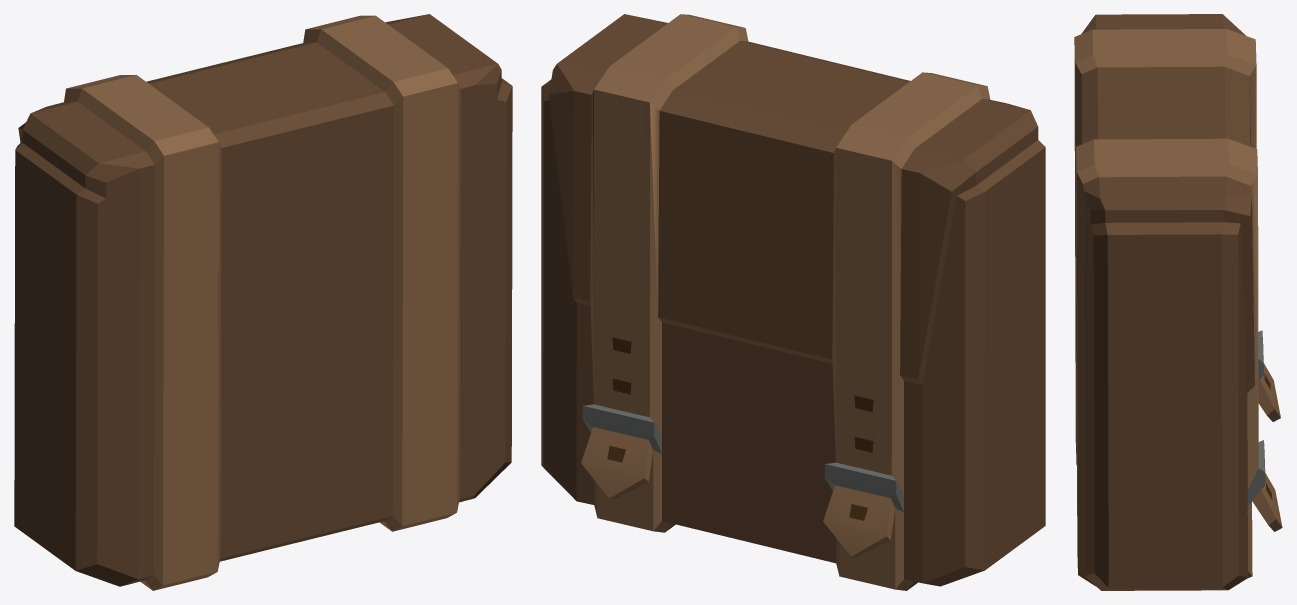
File: SM_Item_Bag_Attachment_02.glb
3 renders of one model, left to right at view 1: azimuth 30°, elevation 25°; view 2: azimuth 150°, elevation 25°; view 3: azimuth 270°, elevation 25°, orthographic. The views are drawn at different scales.
Parts seen in each view (by area): view 1: SM_Item_Bag_Attachment_02; view 2: SM_Item_Bag_Attachment_02; view 3: SM_Item_Bag_Attachment_02.
Part boxes in pixels (<box>): SM_Item_Bag_Attachment_02: <box>14,14,512,590</box>; SM_Item_Bag_Attachment_02: <box>541,14,1045,590</box>; SM_Item_Bag_Attachment_02: <box>1074,14,1282,590</box>.
Size of the model in its own units: 0.00295 by 0.00289 by 0.00129.
